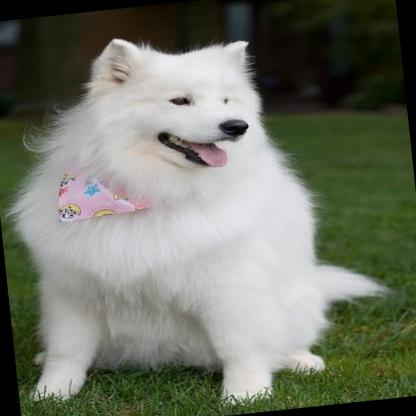Samoyed: (0, 12, 394, 416)
